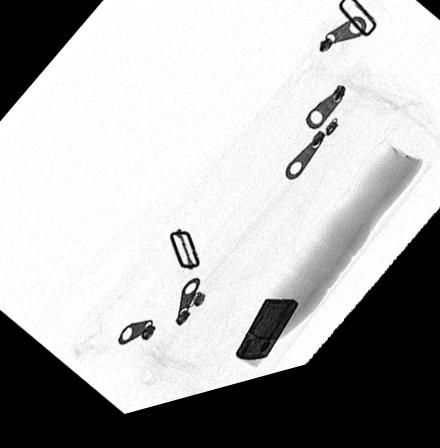Lighter: (234, 312, 299, 373)
